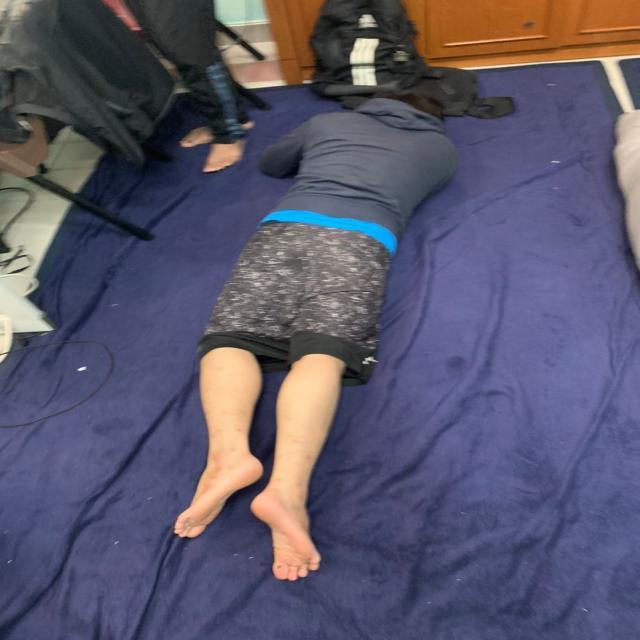fall: (154, 86, 468, 590)
